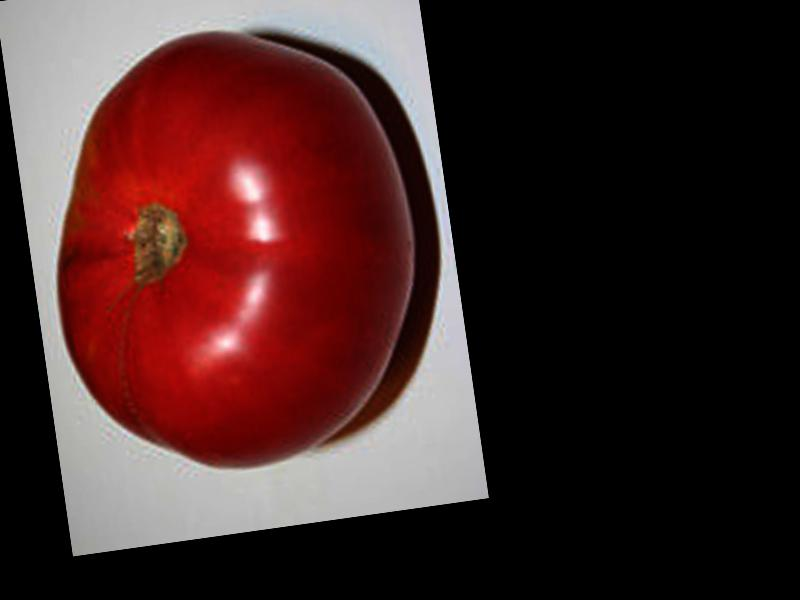Tomato: (20, 6, 433, 492)
